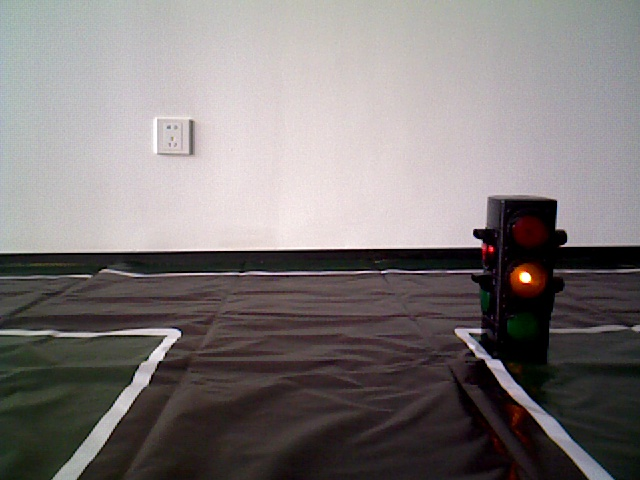yellow: (487, 191, 563, 349)
